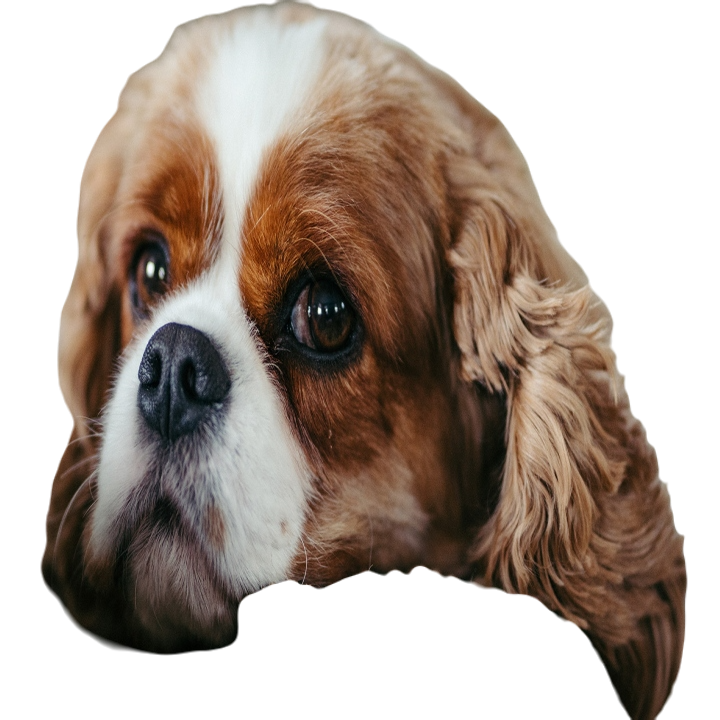Dog: (36, 0, 690, 718)
